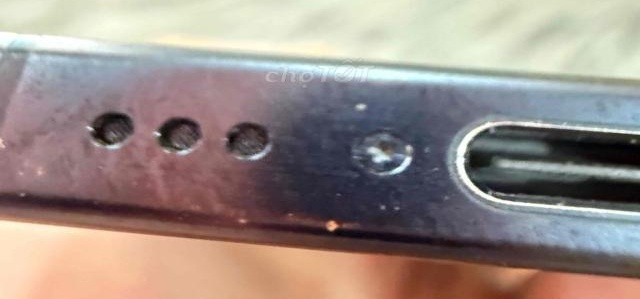scratch: (25, 39, 372, 136), (5, 151, 351, 235), (376, 118, 473, 219)
